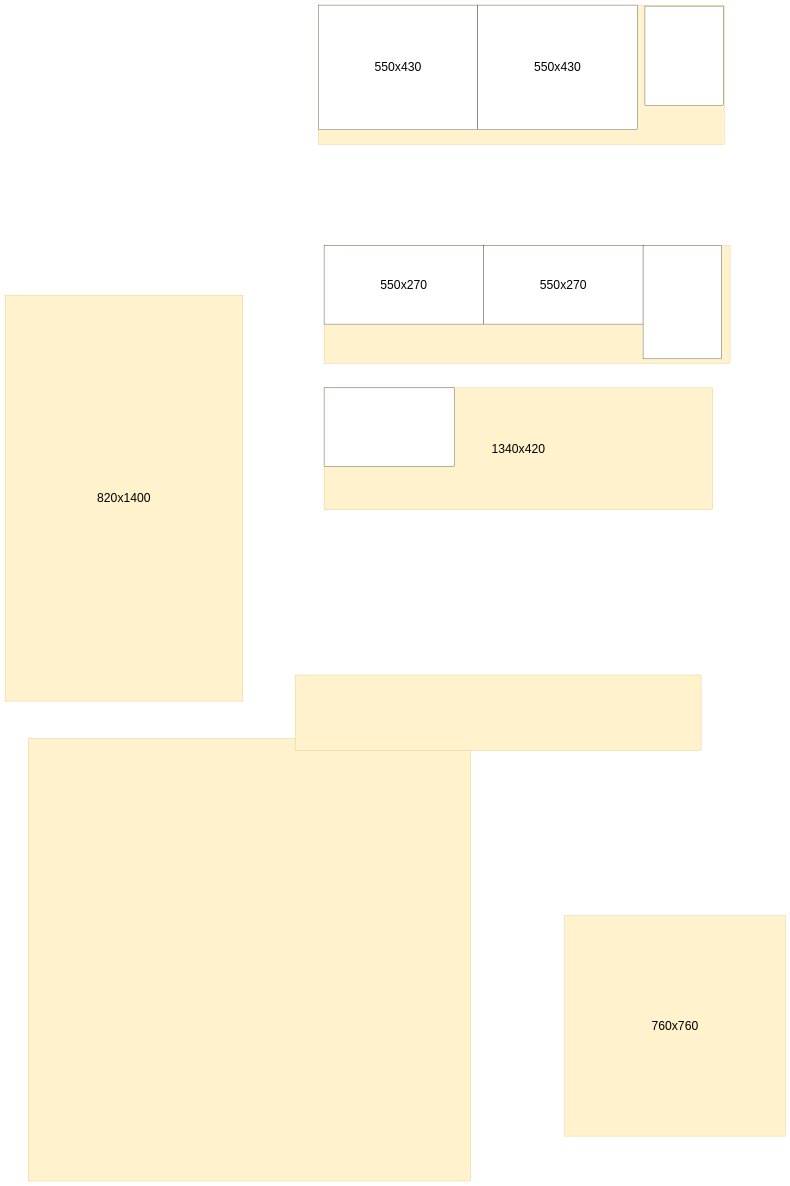
The diagram is 790 pixels wide and 1186 high, and some of its shapes have lost their labels. The box of each missing label's shape, as (x1, y1, x2, y2) in pixels:
1400x260-270: (295, 675, 701, 750)
1525x1525: (28, 738, 471, 1181)
343x270: (645, 6, 723, 106)
390x270: (643, 245, 721, 359)
450x270: (324, 388, 455, 466)
